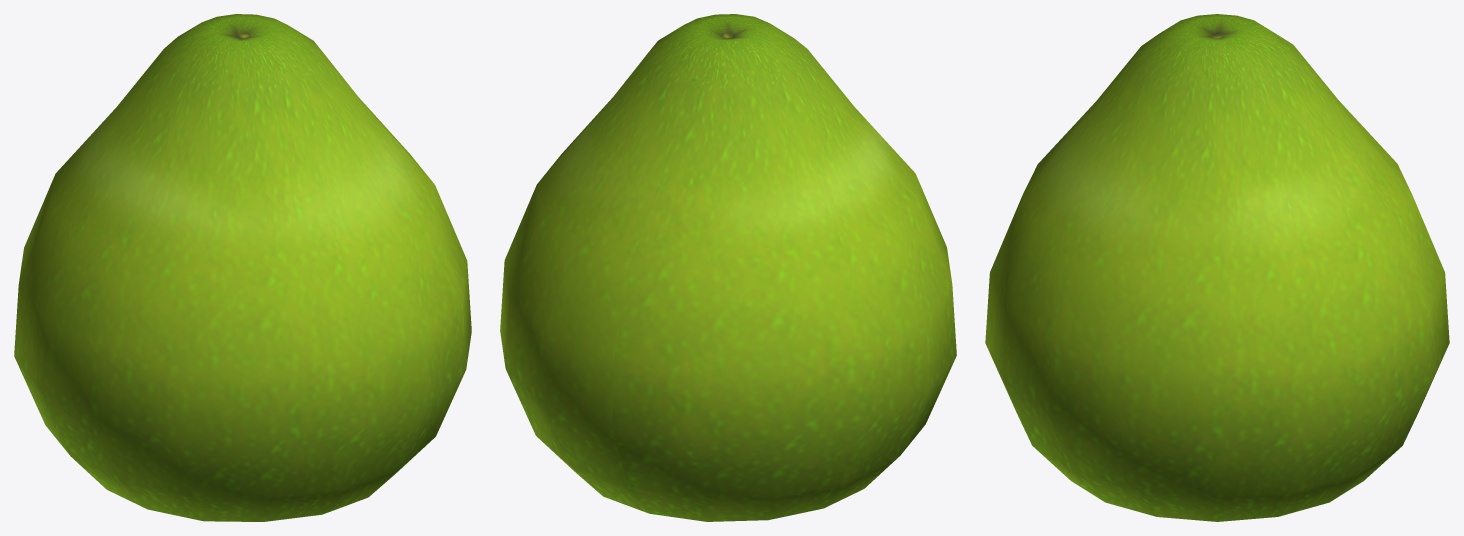
File: Pomelo_Green.fbx
The picture shows the model from 3 angles, left to right: view 1: azimuth 30°, elevation 25°; view 2: azimuth 150°, elevation 25°; view 3: azimuth 270°, elevation 25°; orthographic projection.
Visible parts, largest first — view 1: Pomelo_Green; view 2: Pomelo_Green; view 3: Pomelo_Green.
Part boxes in pixels (x1=…): Pomelo_Green: x1=14, y1=14, x2=471, y2=521; Pomelo_Green: x1=500, y1=14, x2=956, y2=521; Pomelo_Green: x1=985, y1=14, x2=1449, y2=521.
Bounding box in the file's own units: 38.85 × 43.12 × 39.24.
1 material, 1 textured.
